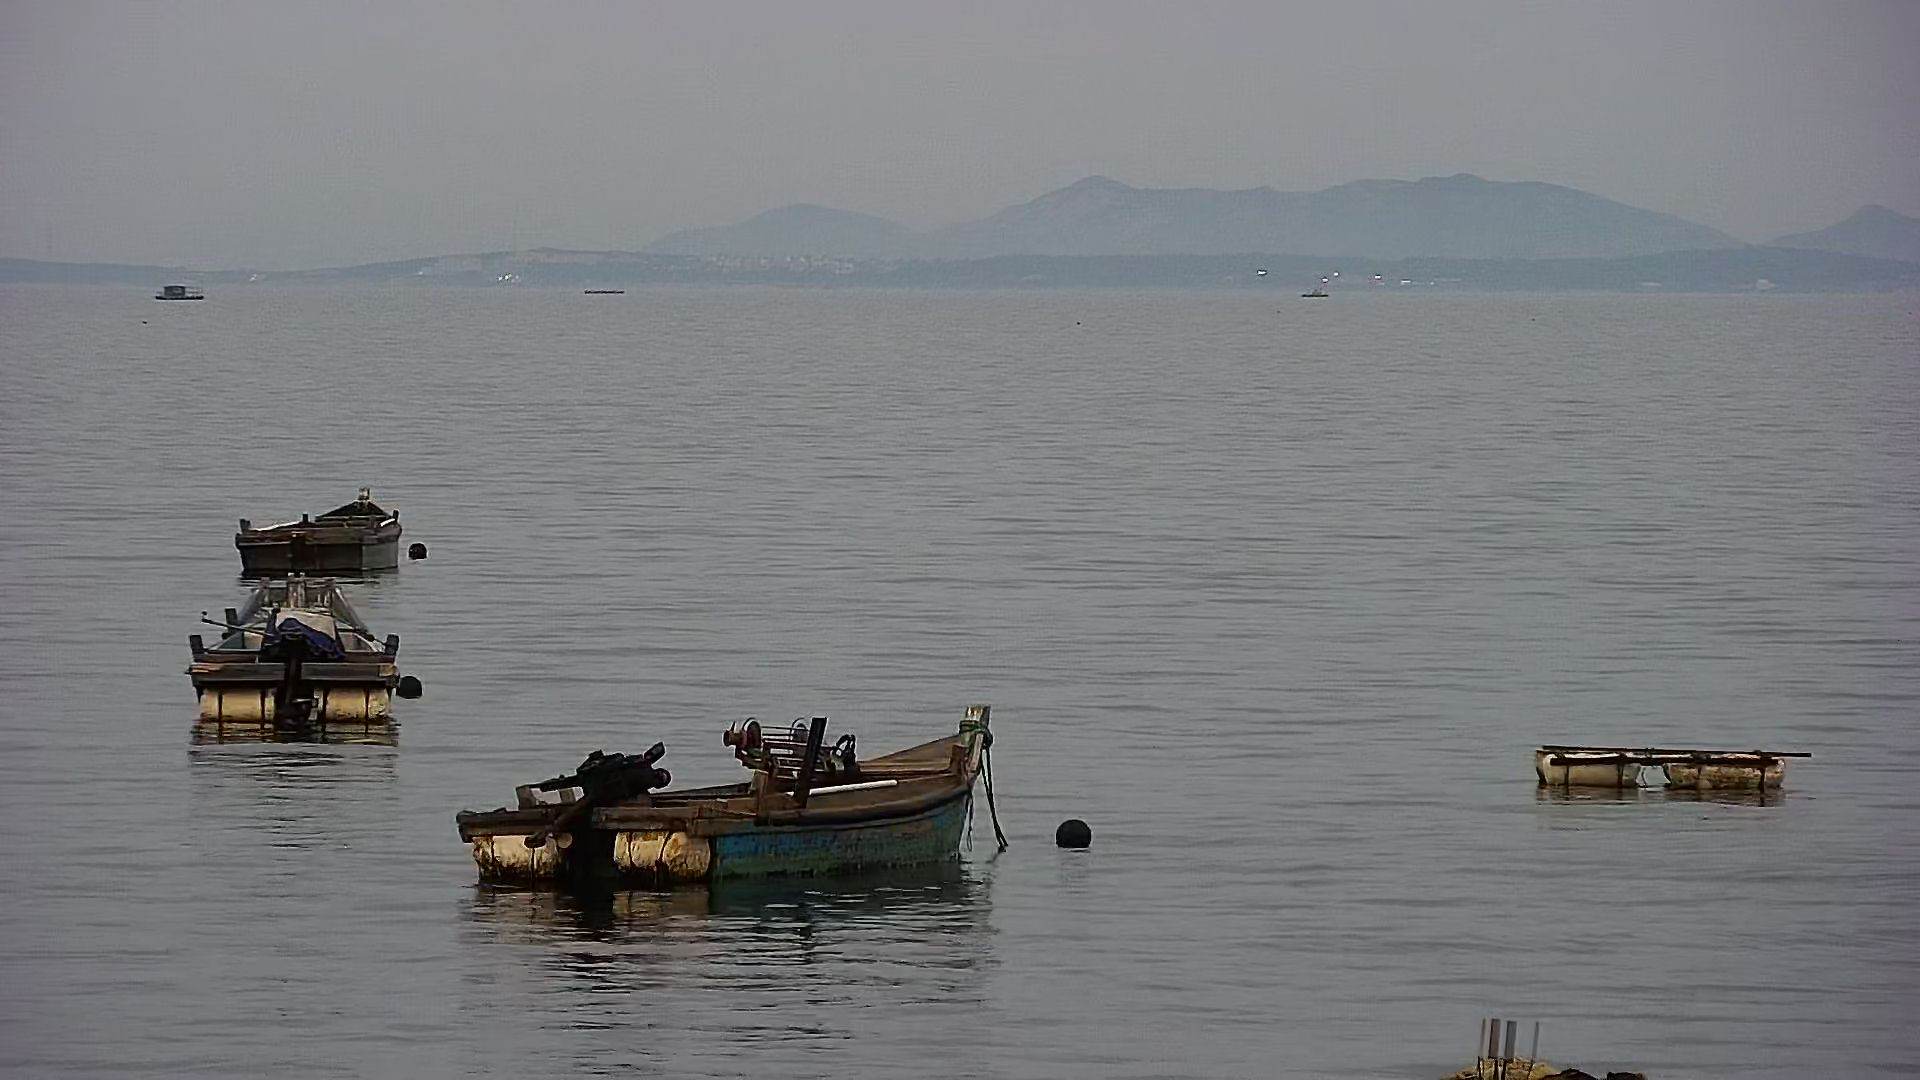ball: (1051, 808, 1098, 862)
boat: (462, 694, 1011, 907), (199, 570, 415, 742), (235, 473, 404, 593)
rubbish: (1527, 742, 1811, 794)
